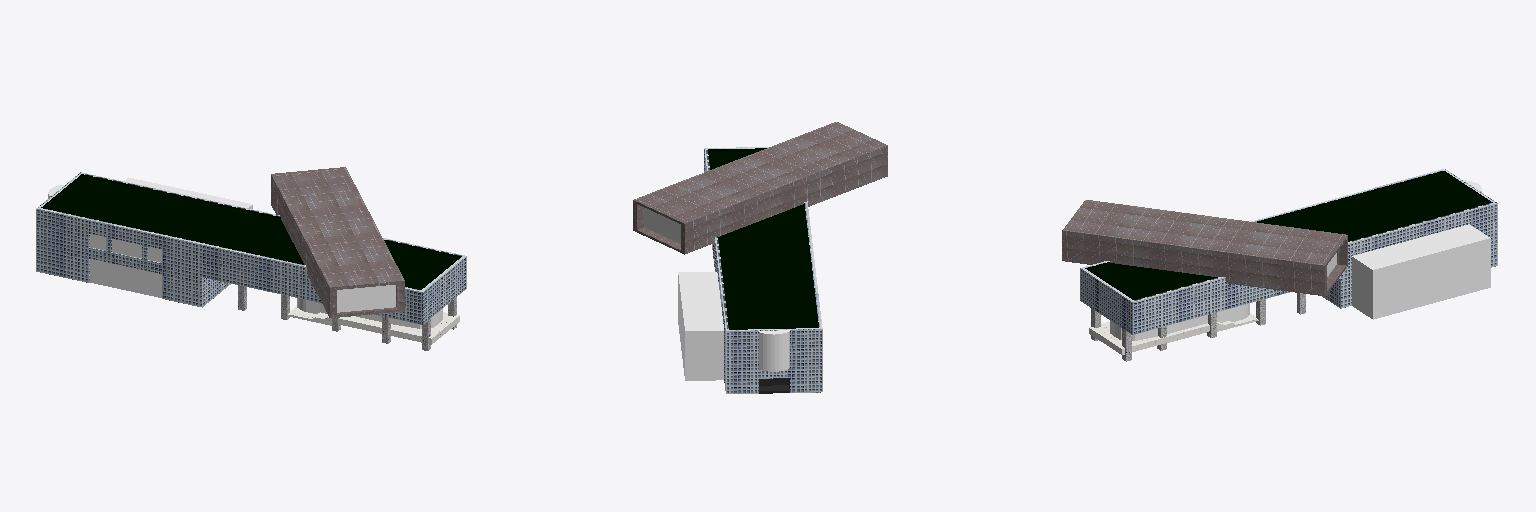
3 renders of one model, left to right at view 1: azimuth 30°, elevation 25°; view 2: azimuth 150°, elevation 25°; view 3: azimuth 270°, elevation 25°, orthographic.
Parts seen in each view (by area): view 1: lambert5_1, lambert12, lambert8, Material__132, lambert6, Material__253; view 2: lambert8, lambert12, Material__132, lambert5_1; view 3: lambert8, Material__132, lambert5_1, lambert12, lambert6, Material__253.
Boxes of the visible parts, x1,y1,x2,y2 form: lambert5_1: [36, 172, 466, 324]; lambert12: [41, 174, 461, 289]; lambert8: [271, 167, 404, 317]; Material__132: [48, 177, 442, 328]; lambert6: [287, 306, 459, 344]; Material__253: [238, 285, 456, 350]; lambert8: [633, 122, 887, 254]; lambert12: [708, 148, 818, 329]; Material__132: [644, 208, 789, 380]; lambert5_1: [704, 147, 822, 393]; lambert8: [1062, 200, 1347, 295]; Material__132: [1110, 180, 1490, 342]; lambert5_1: [1080, 169, 1497, 334]; lambert12: [1085, 171, 1492, 299]; lambert6: [1089, 313, 1258, 354]; Material__253: [1091, 293, 1305, 361].
Bounding box in the file's own units: 104 × 32.77 × 143.
7 materials, 4 textured.